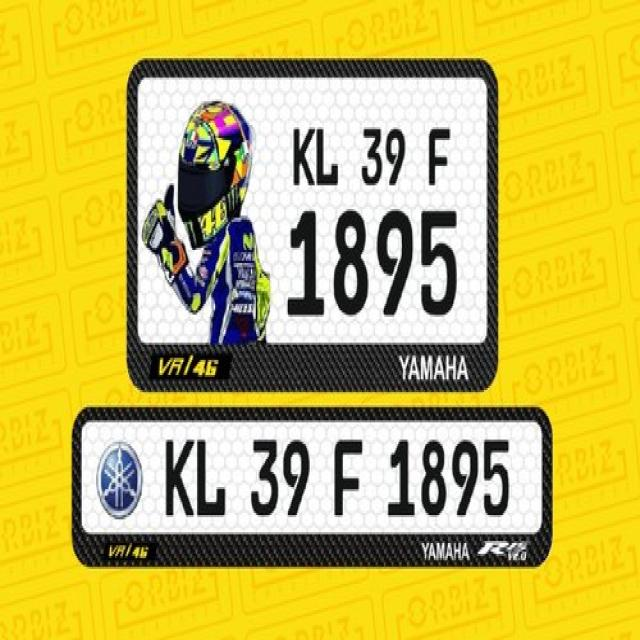plate: (126, 58, 500, 393), (72, 406, 553, 569)
